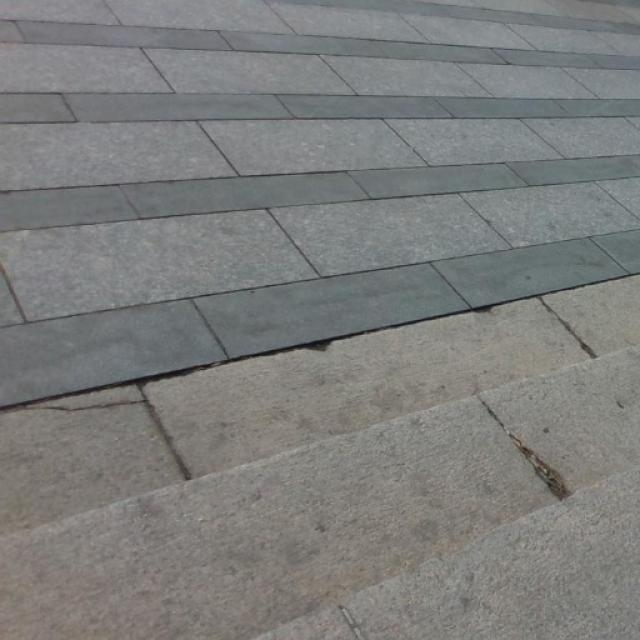stair: (14, 338, 639, 608)
